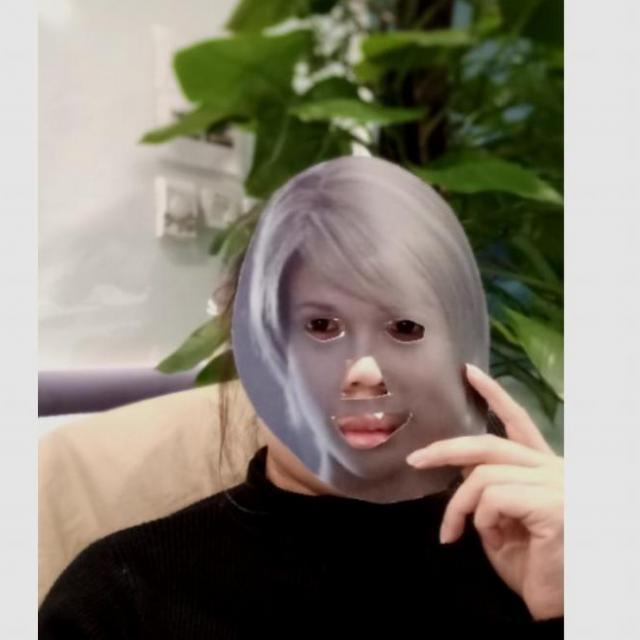mask: (226, 153, 499, 506)
